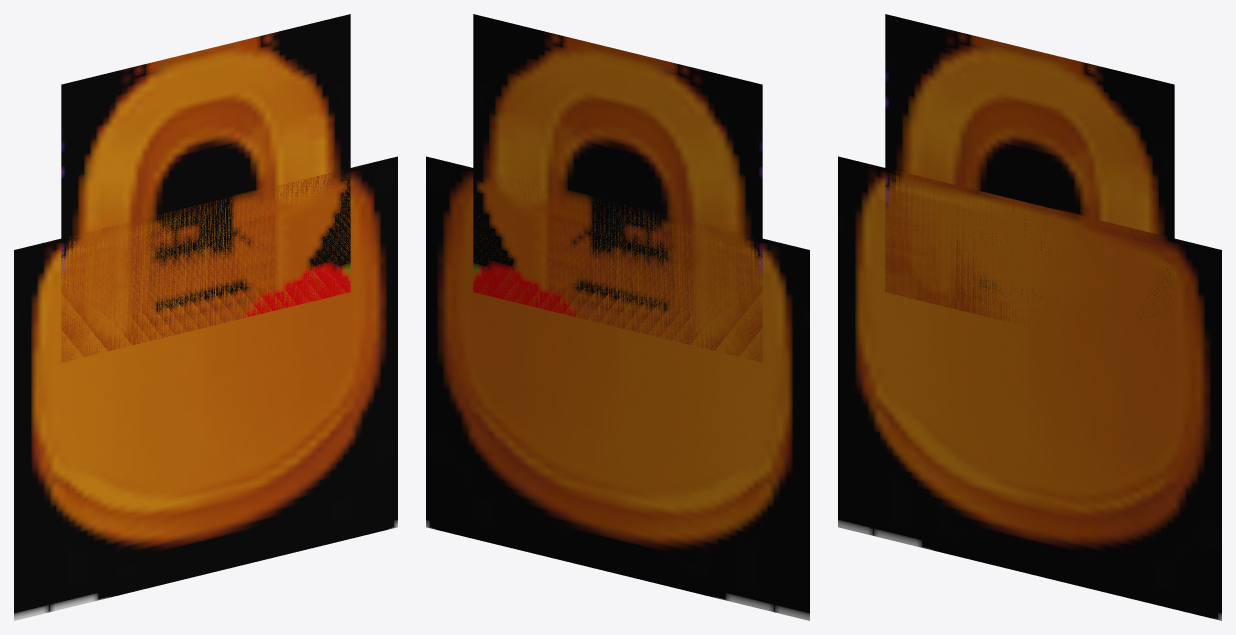
File: Lock.glb
3 renders of one model, left to right at view 1: azimuth 30°, elevation 25°; view 2: azimuth 150°, elevation 25°; view 3: azimuth 330°, elevation 25°, orthographic.
Parts seen in each view (by area): view 1: Lock; view 2: Lock; view 3: Lock.
Part boxes in pixels (x1,y1,x2,y2): Lock: [14, 14, 397, 620]; Lock: [426, 14, 809, 620]; Lock: [838, 14, 1221, 620].
Bounding box in the file's own units: 0.7475 × 0.9764 × 0.
1 material, 1 textured.
